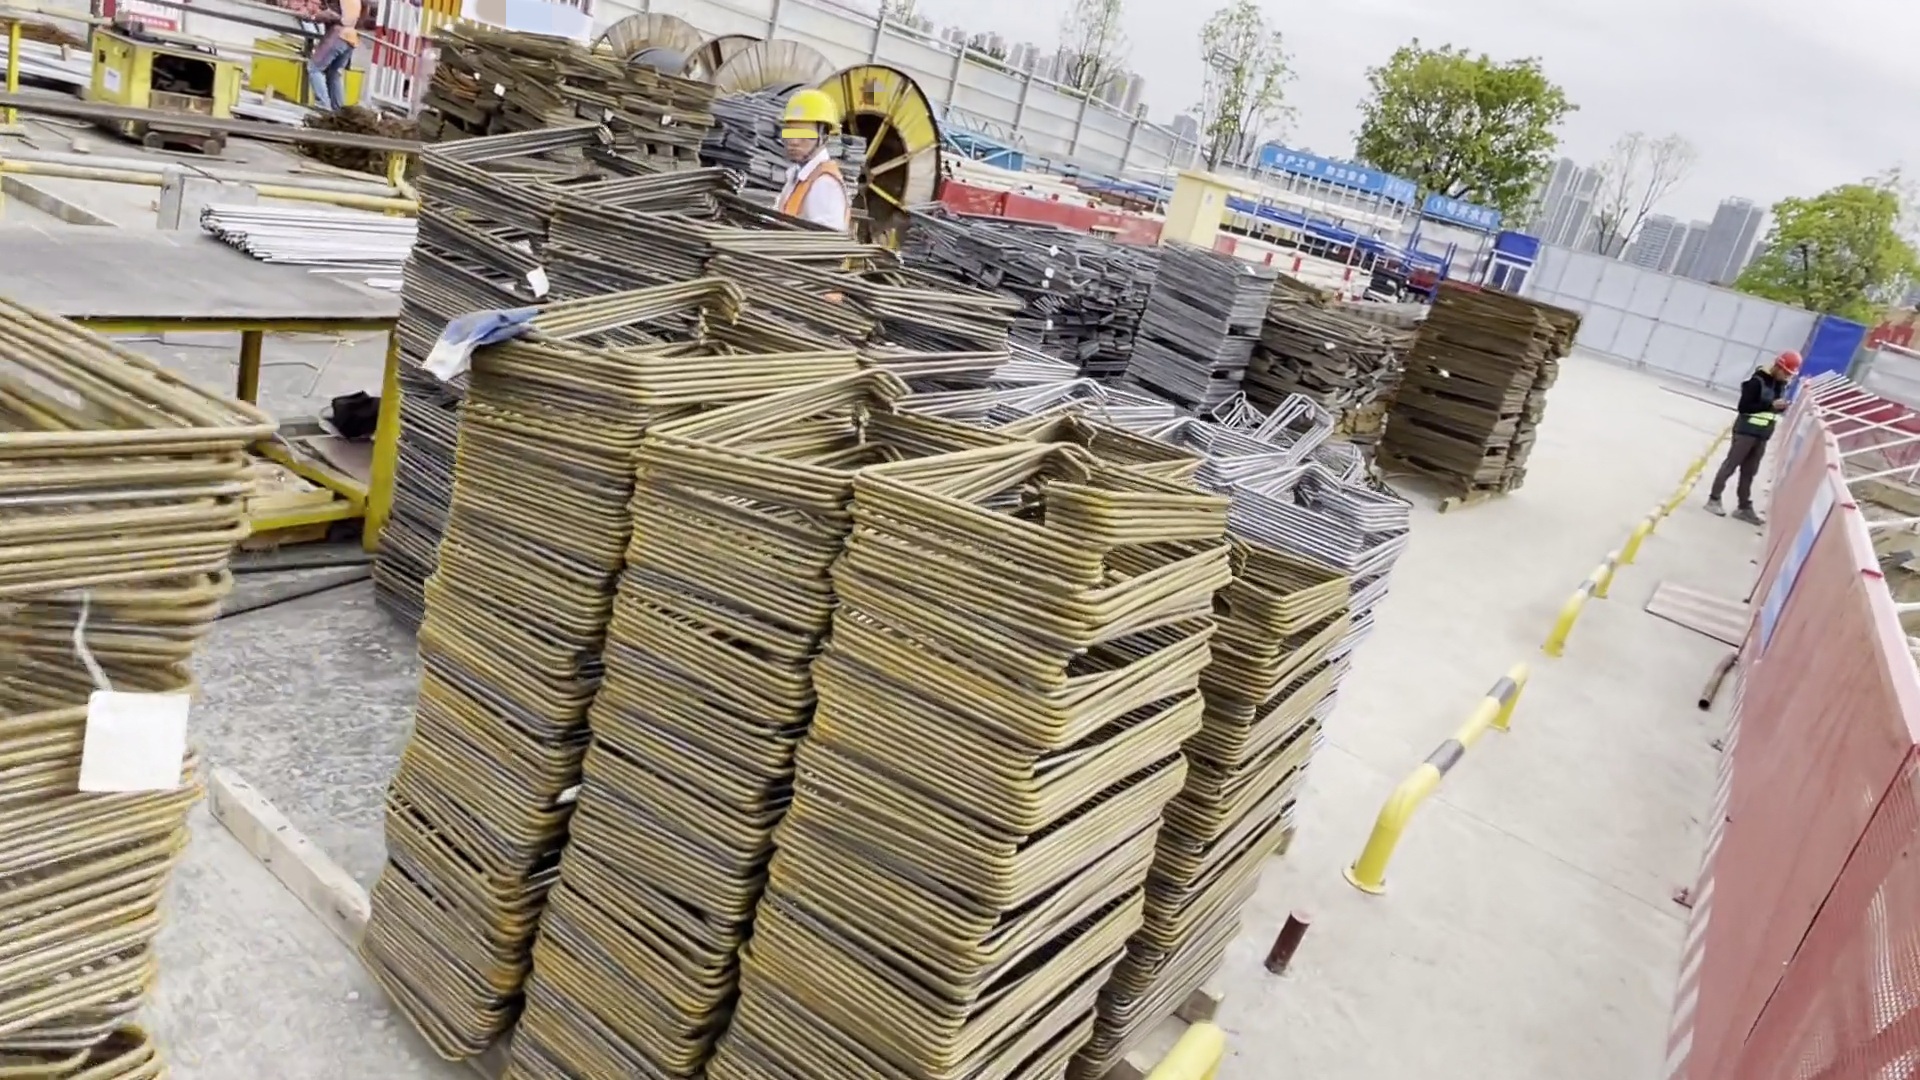cutter: (92, 19, 267, 149)
ebox: (1163, 165, 1223, 256)
fence: (1736, 392, 1920, 1063)
helmet: (772, 86, 839, 130), (1769, 348, 1794, 376)
person: (1702, 352, 1803, 526), (769, 87, 849, 279), (307, 1, 354, 120)
slogan: (1258, 140, 1501, 243)
vest: (781, 160, 839, 217), (334, 3, 359, 44)
